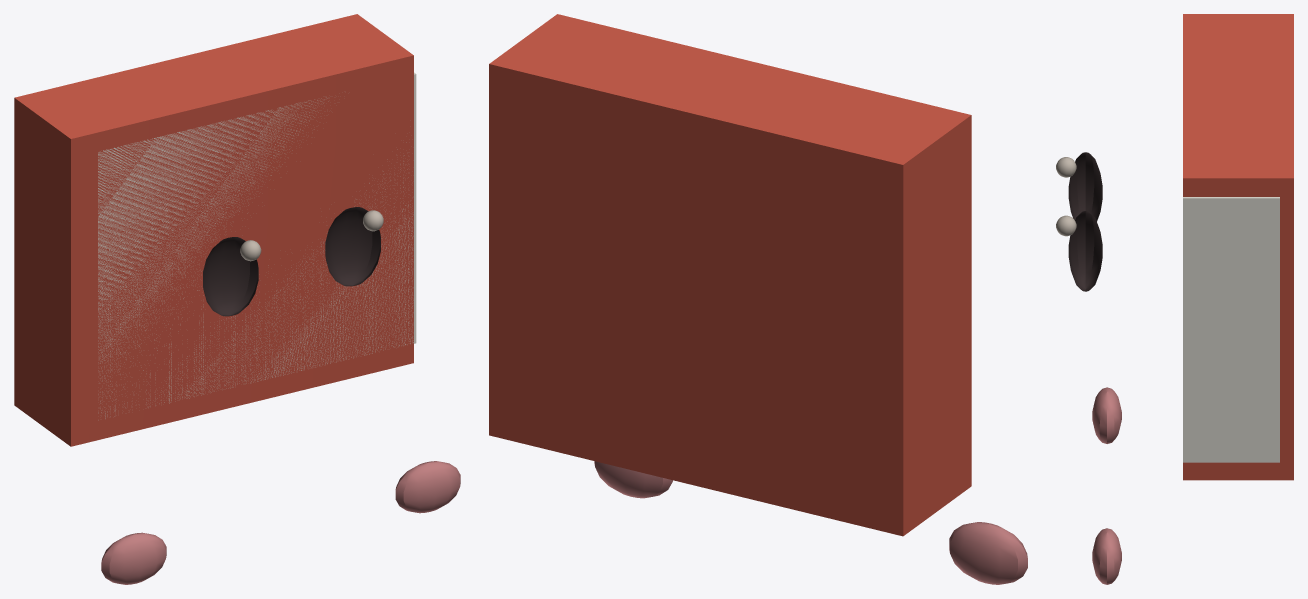
File: pc800bbef.glb
3 renders of one model, left to right at view 1: azimuth 30°, elevation 25°; view 2: azimuth 150°, elevation 25°; view 3: azimuth 270°, elevation 25°, orthographic. The views are drawn at different scales.
Visible parts, largest first — view 1: pet_pc800bbef; view 2: pet_pc800bbef; view 3: pet_pc800bbef.
Boxes of the visible parts, <box> form: pet_pc800bbef: <box>14,14,460,584</box>; pet_pc800bbef: <box>489,14,1027,584</box>; pet_pc800bbef: <box>1056,14,1293,584</box>.
Size of the model in its own units: 0.2932 by 0.3289 by 0.1714.
